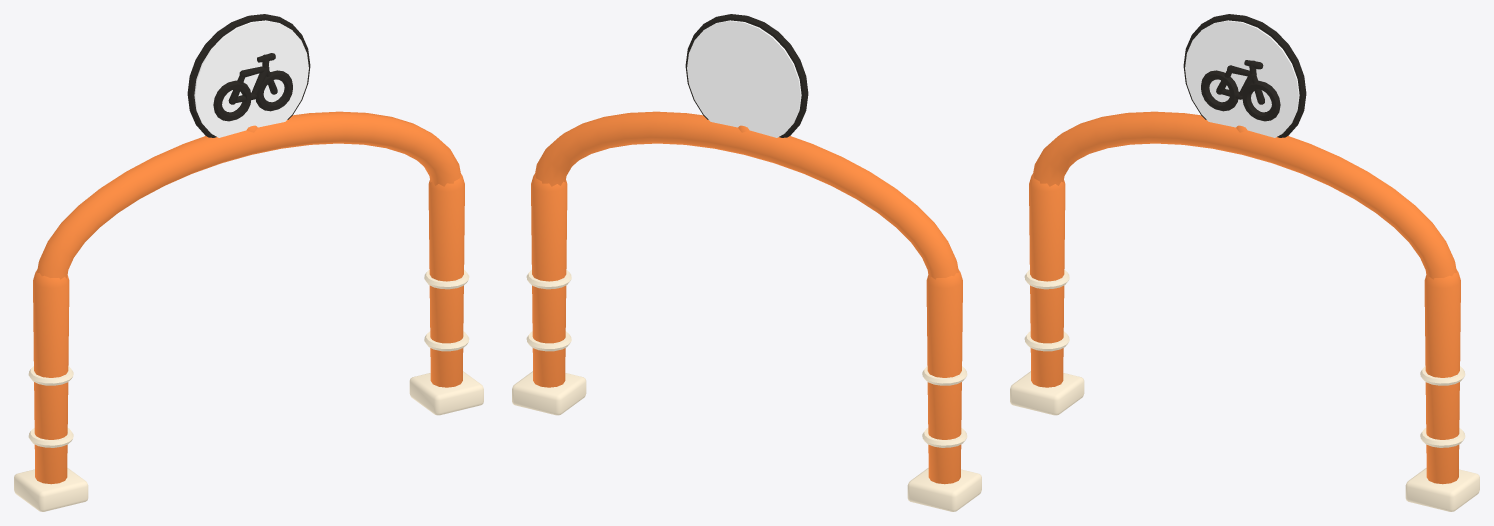
The model's file is swap_gate_bike.glb.
3 renders of one model, left to right at view 1: azimuth 30°, elevation 25°; view 2: azimuth 150°, elevation 25°; view 3: azimuth 330°, elevation 25°, orthographic.
Parts seen in each view (by area): view 1: swap_gate_bike; view 2: swap_gate_bike; view 3: swap_gate_bike.
Part boxes in pixels (left/top/right/bottom): swap_gate_bike: left=14, top=14, right=483, bottom=511; swap_gate_bike: left=512, top=14, right=981, bottom=511; swap_gate_bike: left=1010, top=14, right=1479, bottom=511.
Bounding box in the file's own units: 9 × 8.51 × 1.
1 material, 1 textured.
